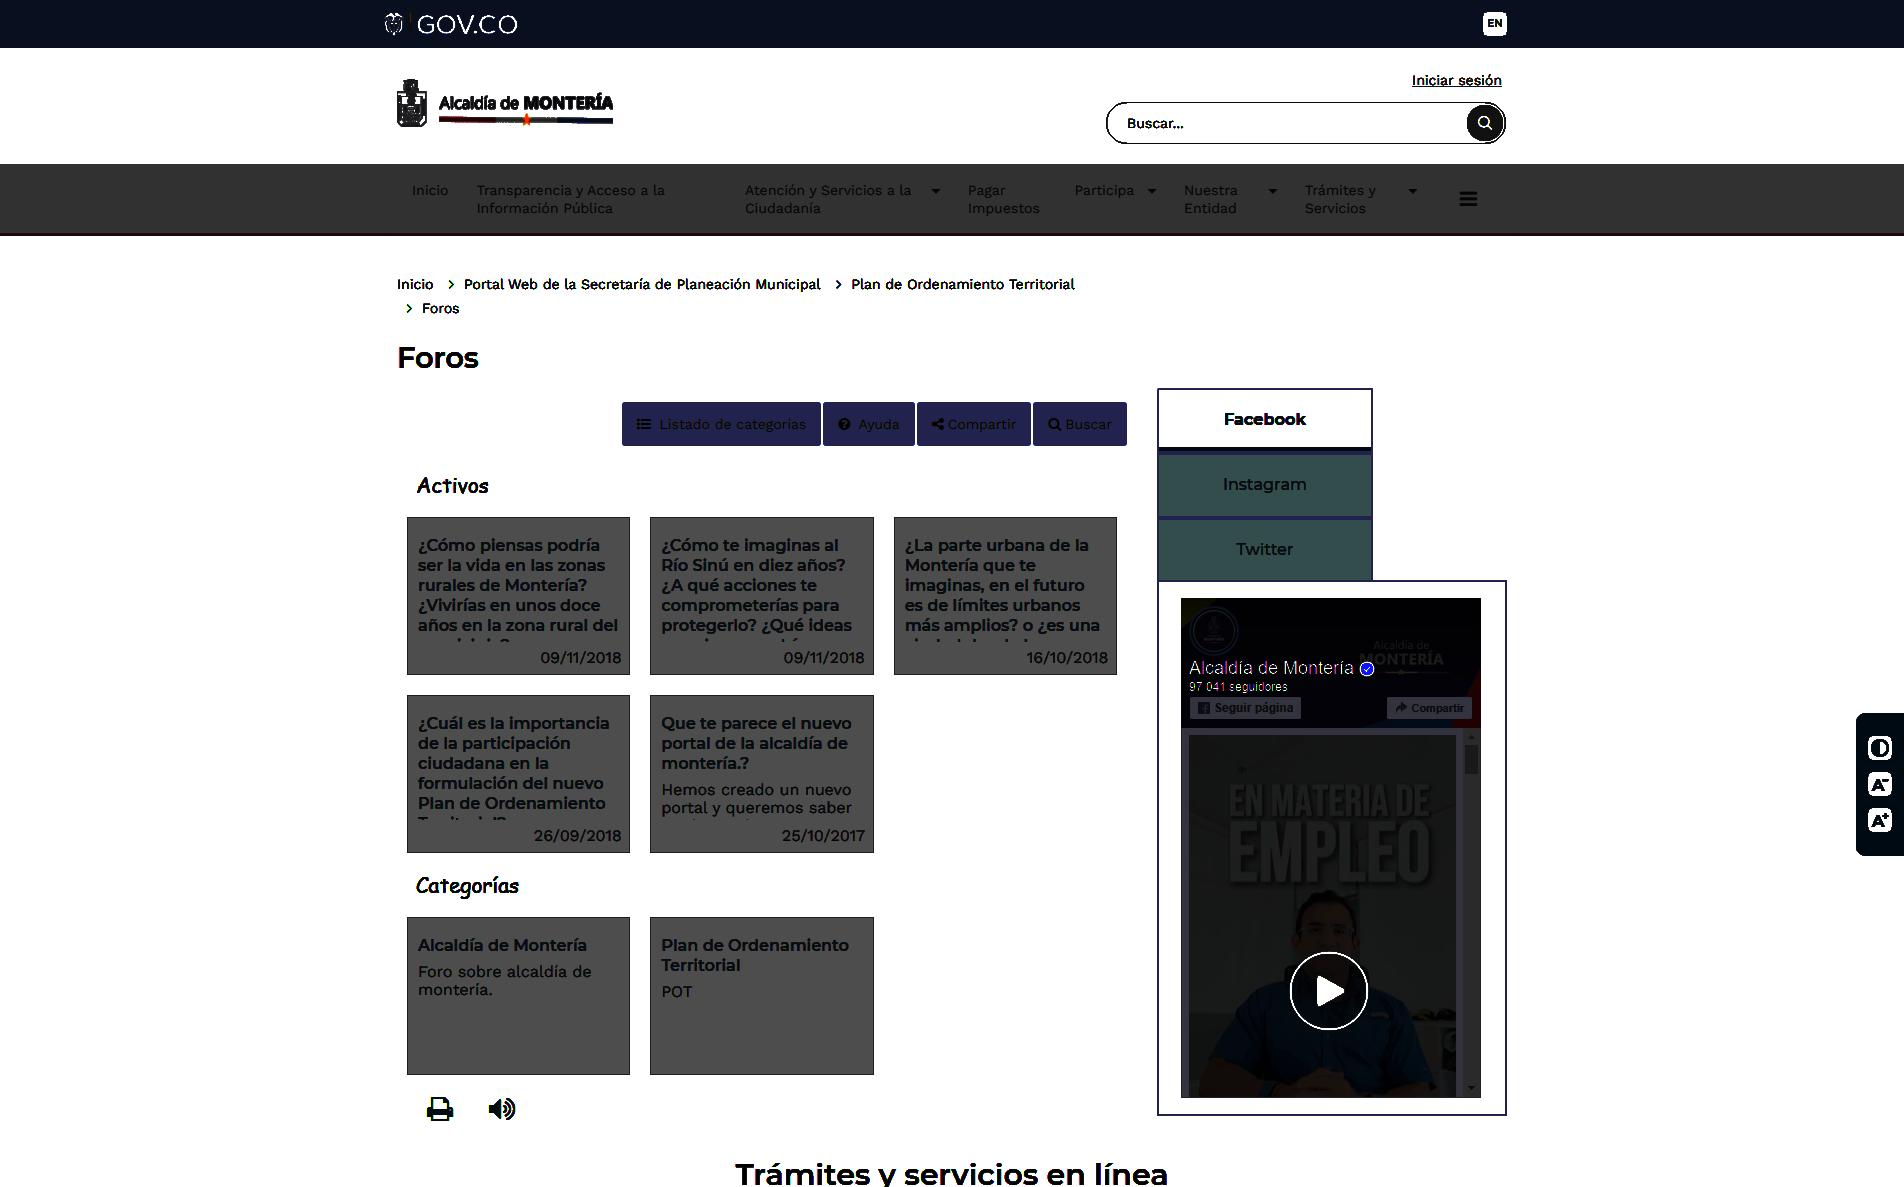barra accesibilidad: (1854, 710, 1904, 858)
barra govco: (380, 1, 1510, 50)
btn atencion ciudadano: (742, 183, 944, 216)
btn buscador: (1104, 97, 1509, 146), (1466, 101, 1504, 142), (1045, 414, 1064, 434)
btn entidad: (1181, 181, 1281, 218)
btn idiomas: (1484, 10, 1507, 38)
btn inicio: (410, 182, 451, 200)
btn inicio sesion: (1411, 71, 1504, 90)
btn participa: (1073, 183, 1161, 201)
btn tramites: (723, 1157, 1179, 1187), (1300, 178, 1420, 219)
btn transpariencia: (474, 180, 669, 217)
logogovco: (383, 9, 521, 42)
menu principal: (407, 159, 1485, 222)
